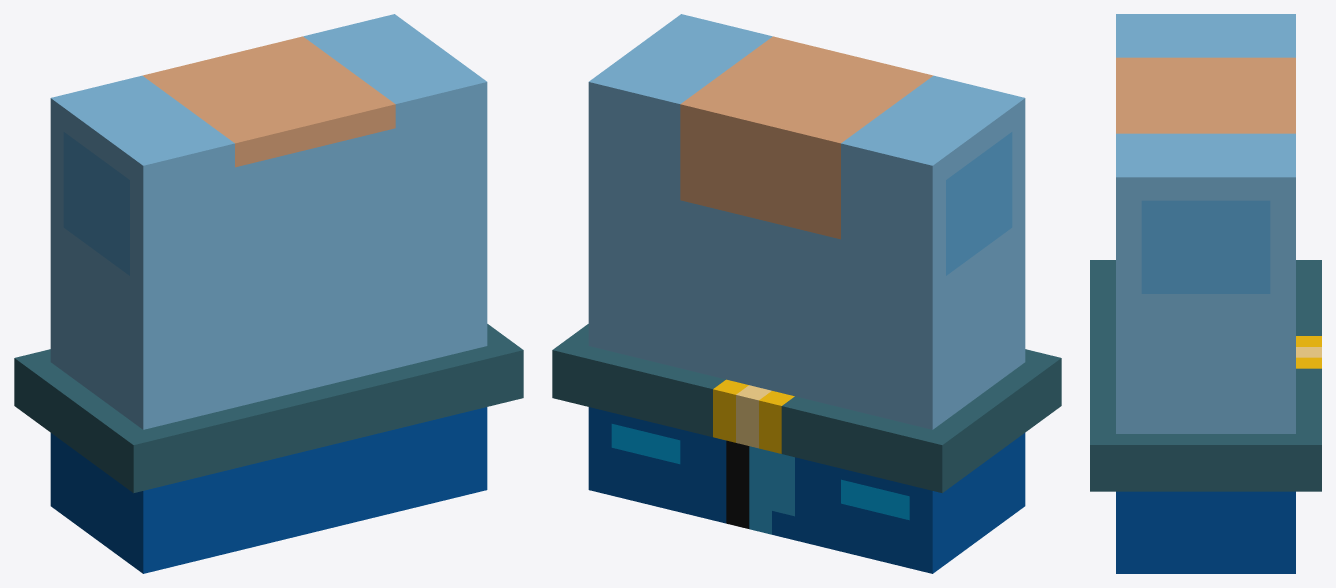
The model's file is char-5.obj.
3 views of the same model, side by side, from view 1: azimuth 30°, elevation 25°; view 2: azimuth 150°, elevation 25°; view 3: azimuth 270°, elevation 25° (orthographic). The views are drawn at different scales.
Bounding box in the file's own units: 1.7 × 1.7 × 0.9.
Materials: 1 (1 with a texture image).
